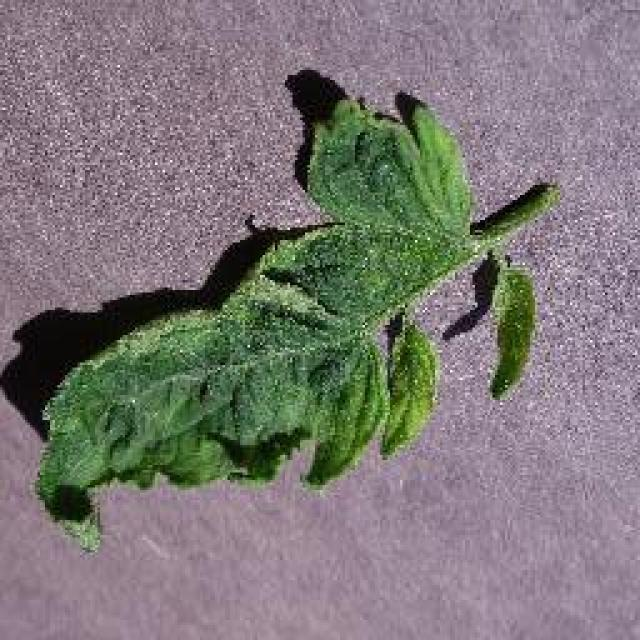Tomato spider mites leaf: (33, 94, 535, 551)
